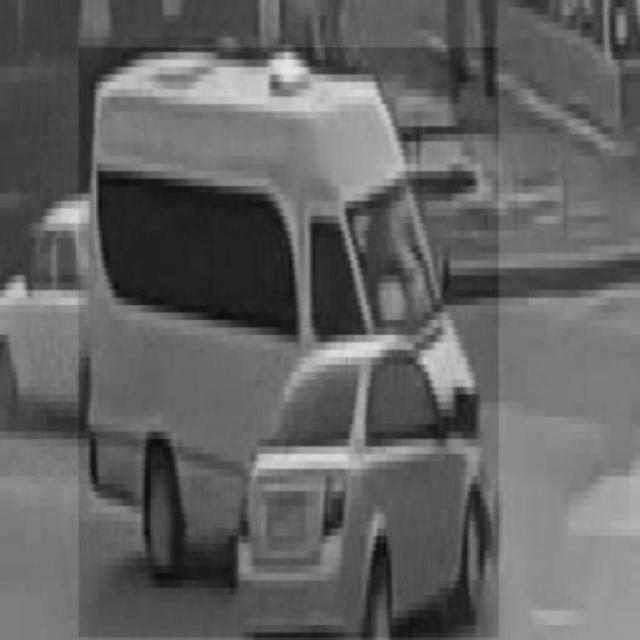accident: (79, 48, 499, 638)
